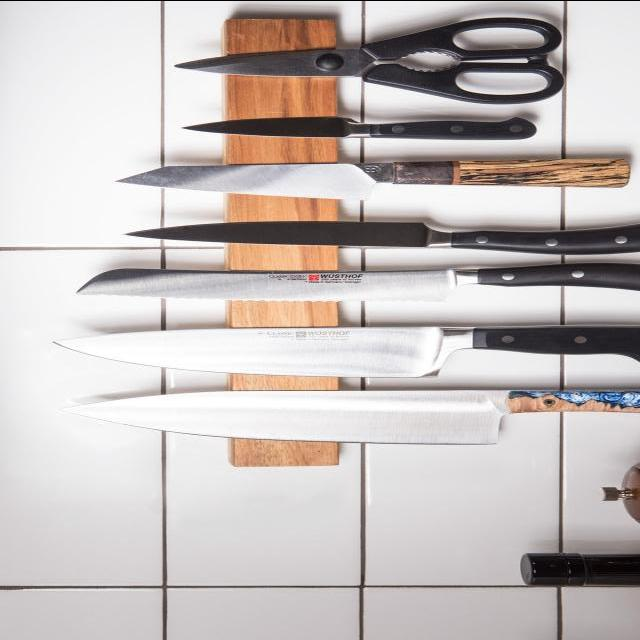knife: (56, 383, 636, 445), (43, 321, 640, 380), (98, 156, 634, 204), (69, 263, 640, 303), (119, 220, 640, 251), (169, 113, 536, 140)
